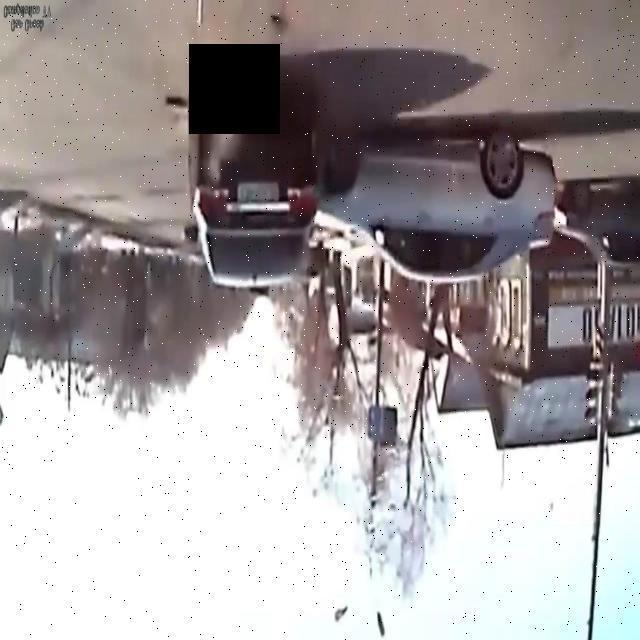vehicle: (157, 32, 568, 360)
